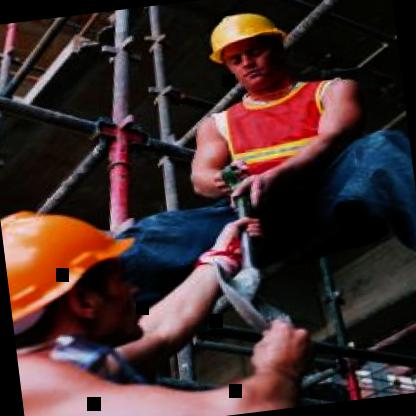helmet: (0, 192, 159, 377), (193, 0, 306, 103)
